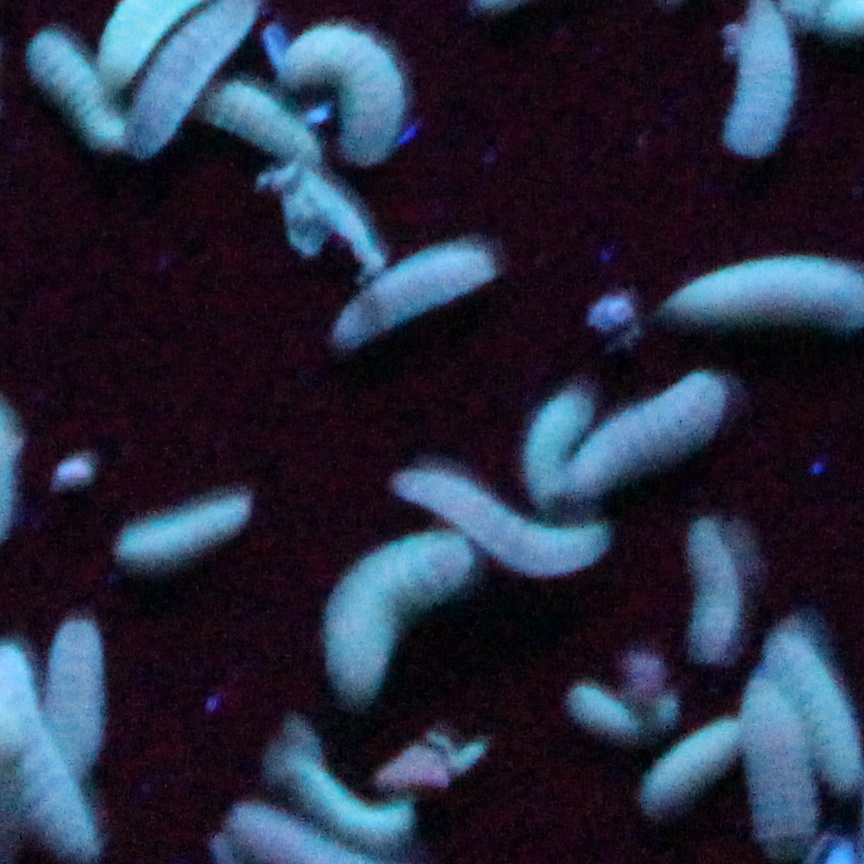larve: (323, 531, 472, 693), (391, 473, 606, 574), (571, 374, 725, 490), (281, 26, 404, 165), (330, 243, 492, 345), (769, 634, 859, 790), (741, 682, 816, 858), (285, 753, 411, 842), (196, 79, 319, 167), (29, 32, 123, 145), (645, 718, 738, 813), (48, 614, 104, 771), (115, 495, 245, 560), (521, 389, 593, 500), (687, 518, 740, 659), (569, 686, 639, 736)
